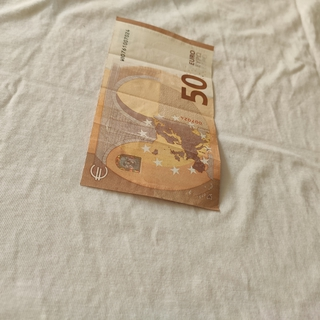50EUROBack: (78, 13, 222, 212)
